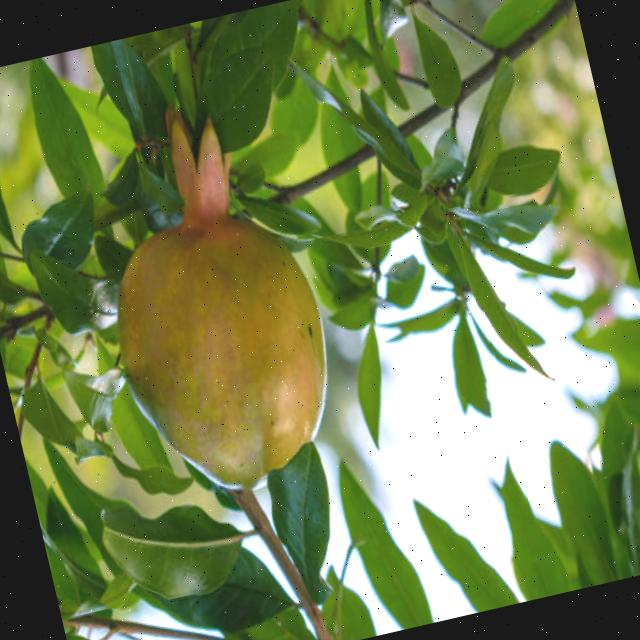Unripe: (67, 89, 352, 512)
